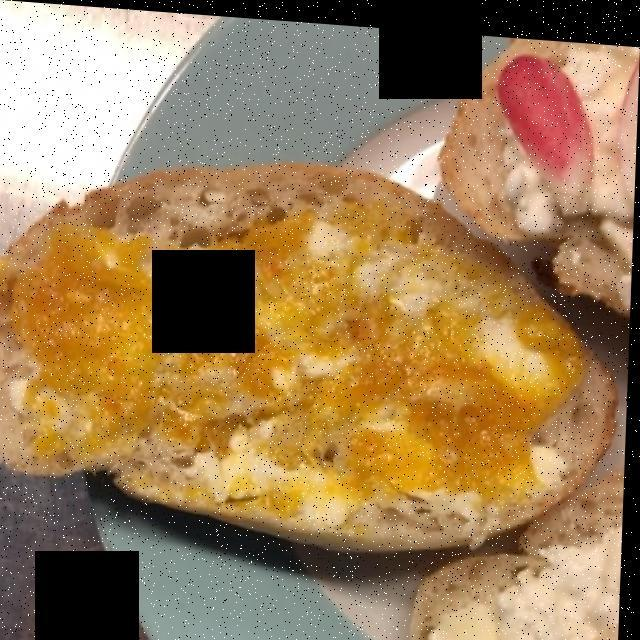bread: (12, 162, 612, 540)
jam: (17, 213, 589, 505)
